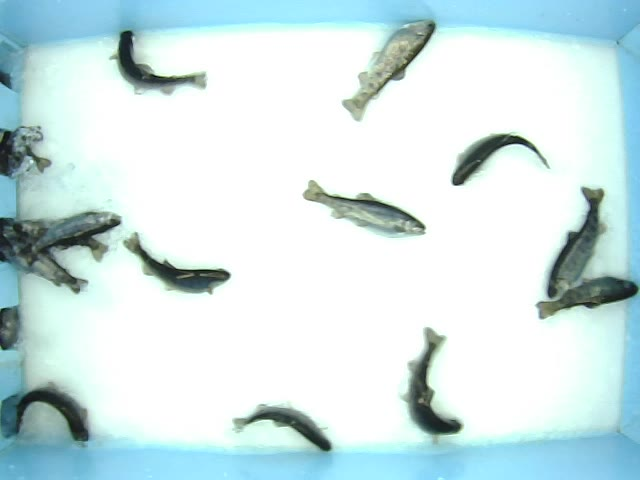fish: (339, 19, 435, 123), (302, 175, 427, 240), (400, 326, 464, 448), (121, 229, 233, 296), (545, 186, 608, 299), (109, 28, 209, 96), (448, 128, 551, 187), (24, 205, 121, 267), (12, 381, 92, 447), (231, 401, 332, 452), (534, 272, 638, 320), (13, 217, 110, 263)
